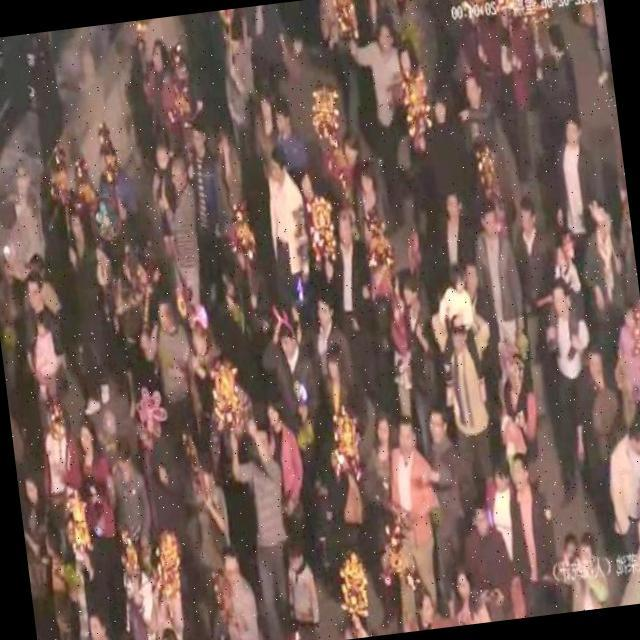person: (219, 402, 297, 640), (528, 273, 605, 495), (426, 257, 498, 485), (344, 11, 418, 228), (317, 205, 388, 426), (49, 202, 119, 422), (555, 340, 633, 533), (379, 415, 445, 598), (136, 133, 206, 300), (129, 274, 202, 426), (414, 404, 472, 574), (505, 198, 565, 360), (492, 0, 545, 183), (258, 146, 312, 320), (178, 120, 228, 304), (320, 346, 372, 521), (504, 452, 558, 614), (72, 419, 126, 576), (471, 202, 528, 342), (460, 498, 520, 624), (206, 7, 260, 146), (18, 272, 74, 406), (476, 459, 532, 593), (576, 209, 633, 339), (288, 160, 338, 308), (397, 271, 440, 441), (12, 29, 71, 152), (540, 113, 604, 224), (599, 419, 640, 573), (205, 118, 250, 255), (130, 27, 184, 135), (32, 399, 81, 516), (16, 472, 56, 614), (204, 544, 262, 640), (530, 20, 582, 126), (273, 530, 322, 640), (101, 434, 149, 546), (142, 140, 186, 260), (240, 1, 298, 90), (604, 122, 636, 278), (410, 84, 464, 174), (428, 186, 476, 286), (92, 142, 142, 237), (112, 547, 162, 640), (538, 524, 584, 614), (560, 526, 608, 612), (453, 65, 502, 142), (146, 552, 190, 630), (574, 0, 613, 86), (388, 41, 432, 113), (443, 558, 487, 626), (317, 0, 366, 52), (404, 580, 446, 632), (72, 609, 115, 640), (149, 622, 191, 640), (113, 627, 148, 640)
